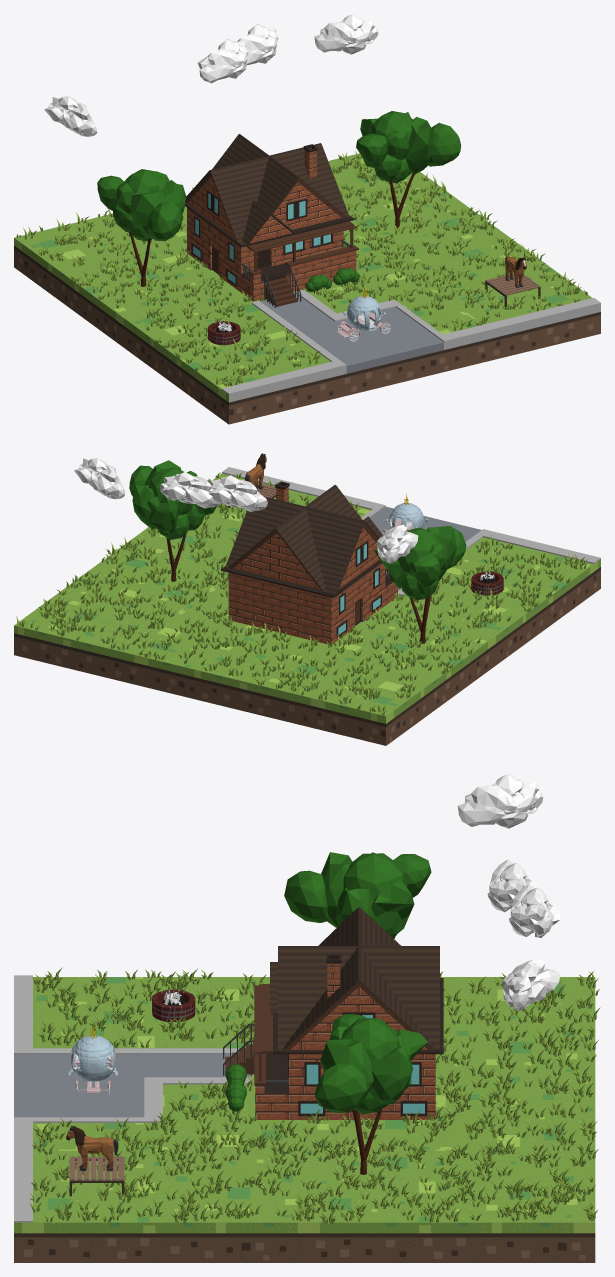
3 renders of one model, top to bottom at view 1: azimuth 30°, elevation 25°; view 2: azimuth 150°, elevation 25°; view 3: azimuth 270°, elevation 25°, orthographic. The views are drawn at different scales.
Parts seen in each view (by area): view 1: Cube.006, Cube.469, Circle.012_Grass_0.192, Cube.007, tree, tree.001, VEHICLES_FANTASY_CARRIAGE, Cube.009, OBJRANDOM_CAMPFIRE; view 2: Cube.006, Cube.469, Circle.012_Grass_0.192, Cube.007, tree.001, tree, VEHICLES_FANTASY_CARRIAGE, OBJRANDOM_CAMPFIRE, ANIMAL_CABALLO; view 3: Cube.006, Circle.012_Grass_0.192, Cube.469, tree, Cube.007, tree.001, VEHICLES_FANTASY_CARRIAGE, Cube.009, OBJRANDOM_CAMPFIRE, ANIMAL_CABALLO.
Boxes of the visible parts, x1,y1,x2,y2 form: Cube.006: (14,153,600,424); Cube.469: (185,134,358,307); Circle.012_Grass_0.192: (16,151,587,386); Cube.007: (44,14,378,136); tree: (356,111,460,228); tree.001: (97,169,186,286); VEHICLES_FANTASY_CARRIAGE: (336,287,390,341); Cube.009: (485,273,540,306); OBJRANDOM_CAMPFIRE: (207,319,240,345); Cube.006: (14,467,600,745); Cube.469: (221,481,397,644); Circle.012_Grass_0.192: (16,472,587,715); Cube.007: (74,457,418,563); tree.001: (374,526,466,643); tree: (129,460,216,581); VEHICLES_FANTASY_CARRIAGE: (381,494,428,534); OBJRANDOM_CAMPFIRE: (471,571,503,595); ANIMAL_CABALLO: (245,453,266,489); Cube.006: (14,975,595,1262); Circle.012_Grass_0.192: (29,967,600,1223); Cube.469: (223,907,443,1119); tree: (314,1014,428,1174); Cube.007: (457,774,560,1011); tree.001: (284,852,431,938); VEHICLES_FANTASY_CARRIAGE: (68,1025,117,1097); Cube.009: (69,1156,124,1196); OBJRANDOM_CAMPFIRE: (152,987,195,1021); ANIMAL_CABALLO: (66,1125,118,1171).
Size of the model in its own units: 4071 by 2126 by 4040.
31 materials, 5 textured.
